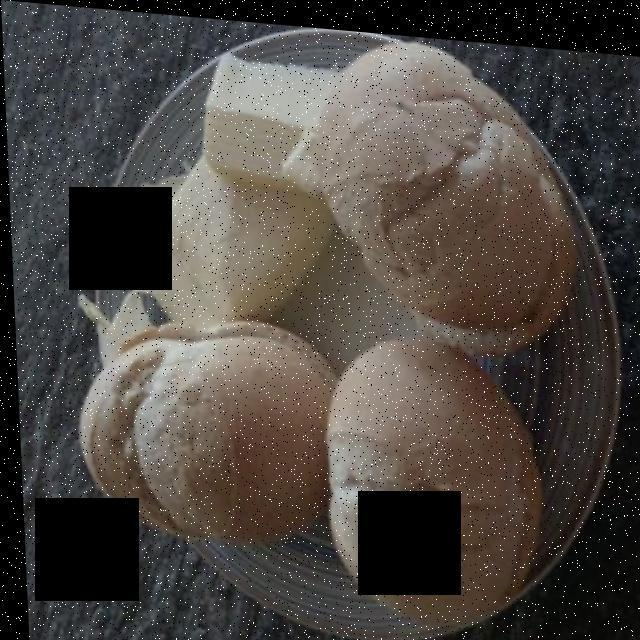bread: (54, 39, 578, 628)
butter: (66, 27, 341, 322)
